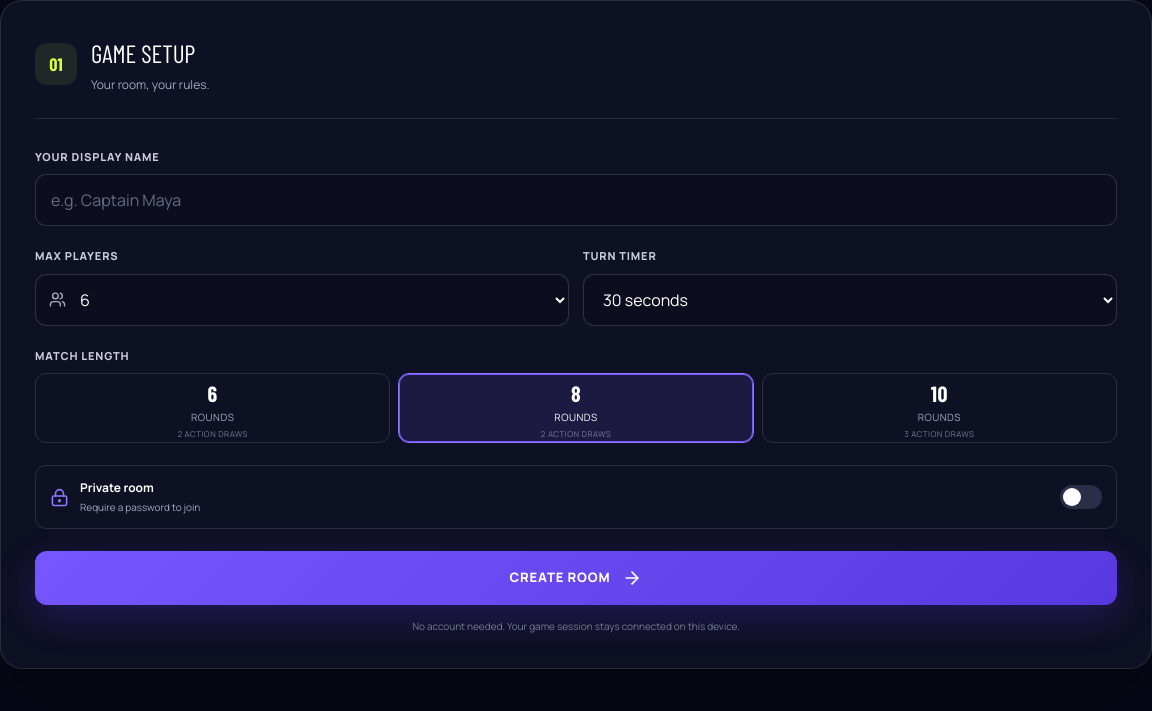
Test: CreateGameForm › requires a usable password for a private room
Type "Maya" into the field labelled "Your display name".
click(576, 200); type("Maya")  # box [35,174,1117,226]
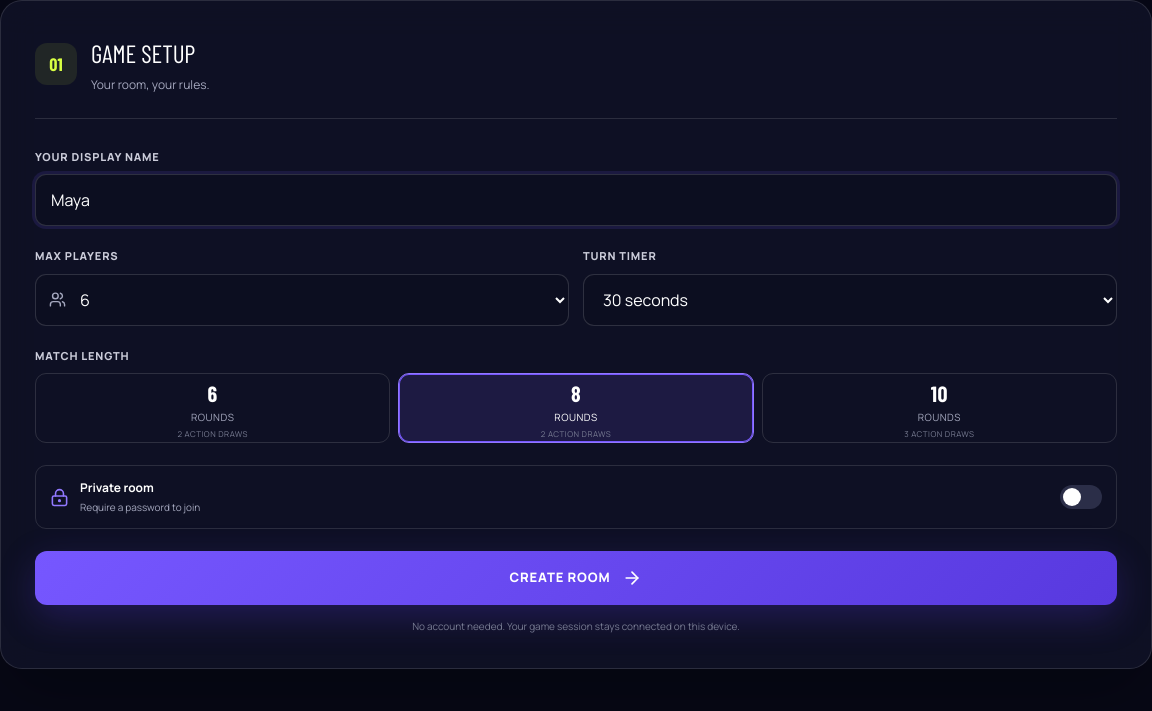
Click the checkbox labelled "Private room Require a password to join".
click(117, 488)  # box [35,465,1117,529]
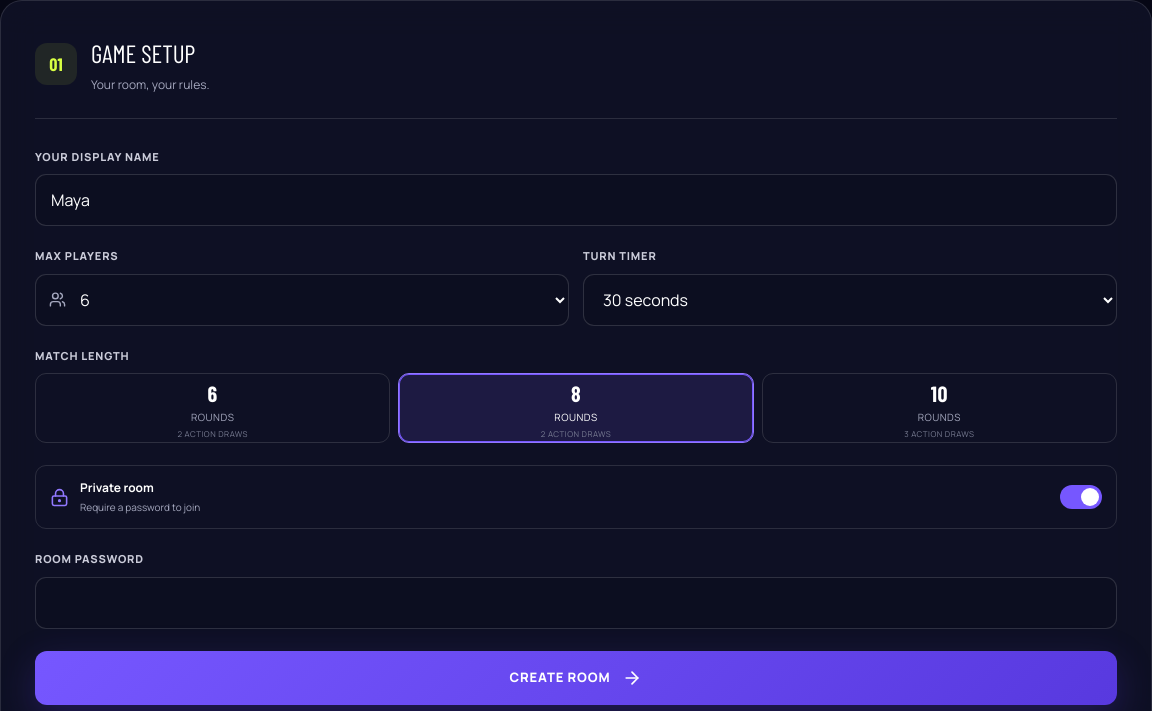
Type "123" into the password field labelled "Room password".
click(576, 602); type("123")  # box [35,576,1117,628]
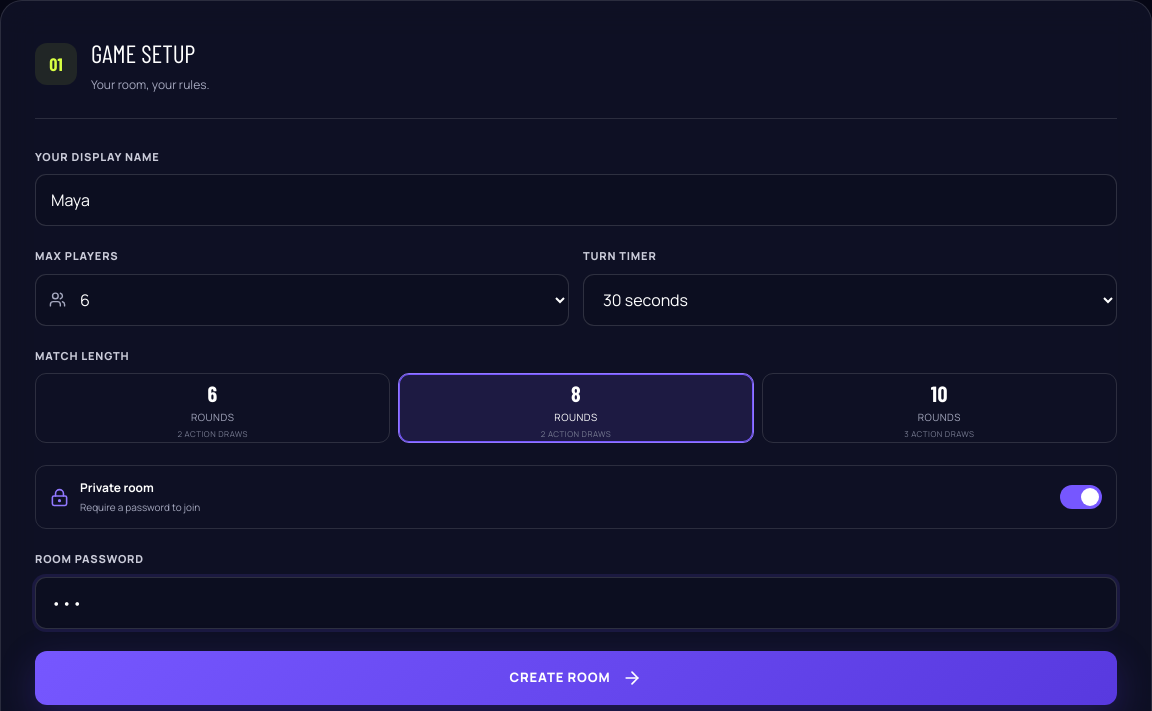
Click the button "Create room".
click(576, 678)  # box [35,650,1117,704]
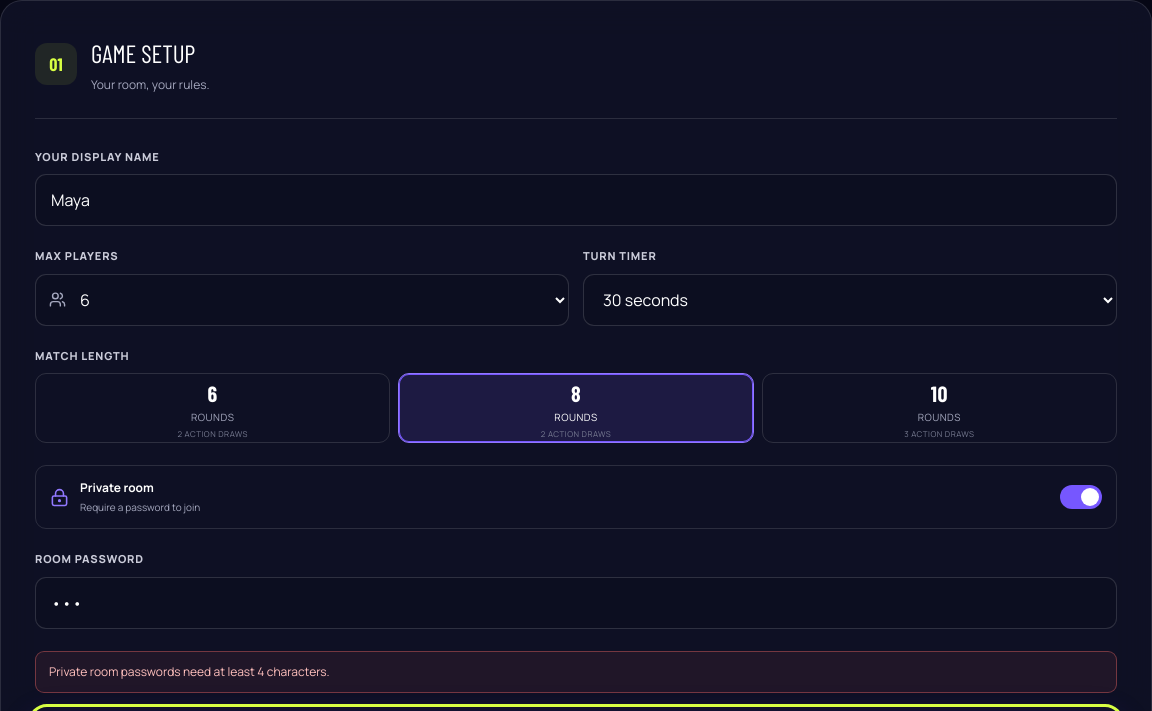
Expected: the message shows "at least 4 characters", [49,662,330,680]
